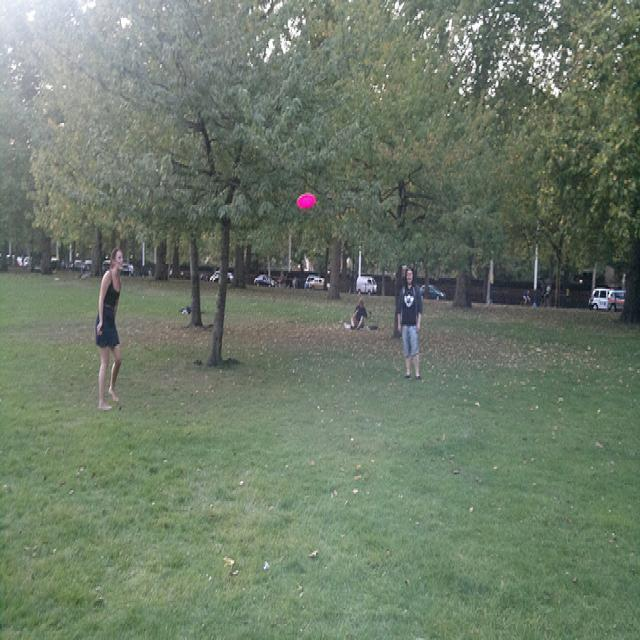Vehicle: (589, 288, 614, 311), (588, 288, 610, 310), (356, 276, 377, 296), (420, 285, 446, 300), (608, 292, 625, 312), (253, 274, 275, 289), (308, 278, 330, 290), (120, 262, 136, 277), (70, 260, 86, 274), (139, 265, 155, 278), (82, 260, 92, 279), (305, 275, 315, 289), (210, 270, 220, 282), (228, 271, 234, 282)
